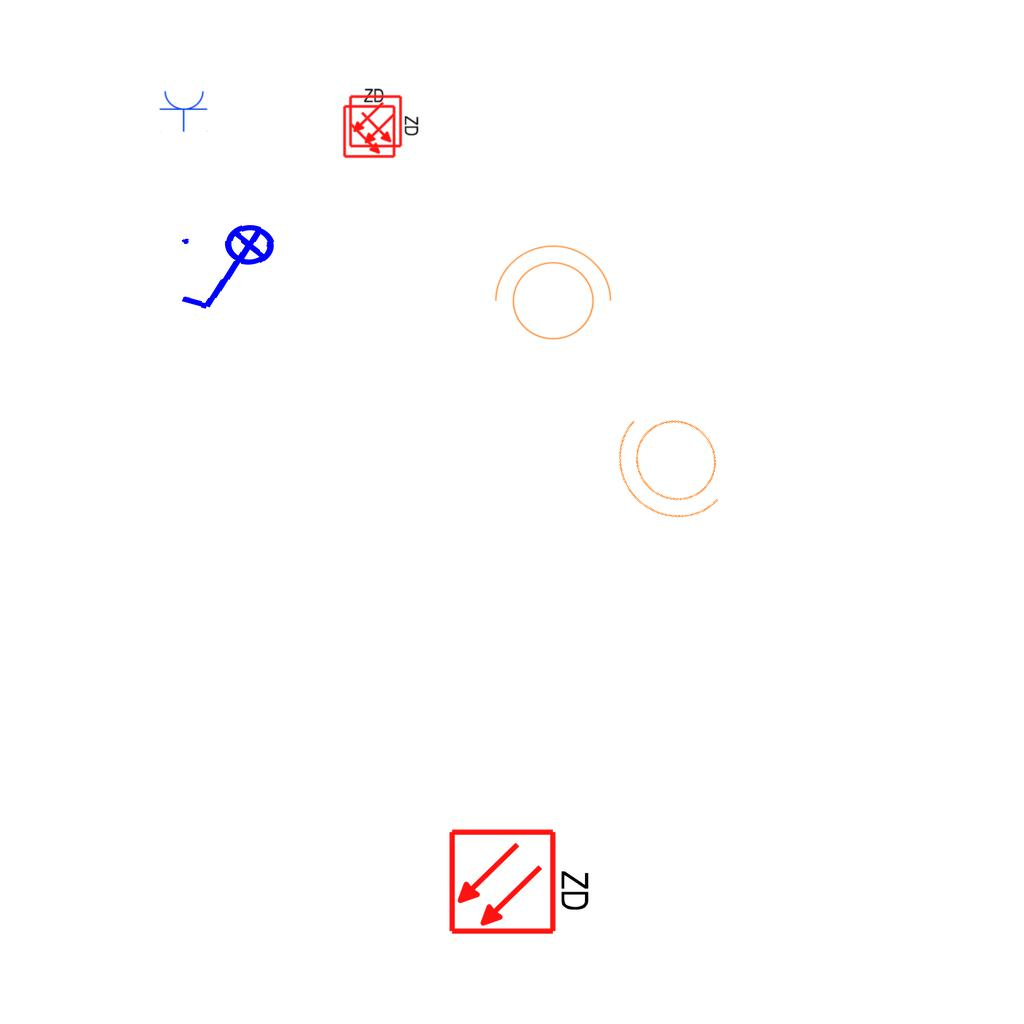Ausschalter_beleuchtet: (172, 219, 290, 321)
Scheinwerfer_fuer_Alarmbeleuchtung: (588, 380, 762, 552), (484, 240, 616, 352)
Schukosteckdose_einfach: (159, 89, 209, 132)
ZD_Melder_in_Zwischendecke_mit_Revisionsoeffnung_mind_40_x_40_cm: (447, 823, 596, 937), (340, 85, 397, 159), (348, 92, 422, 149)
